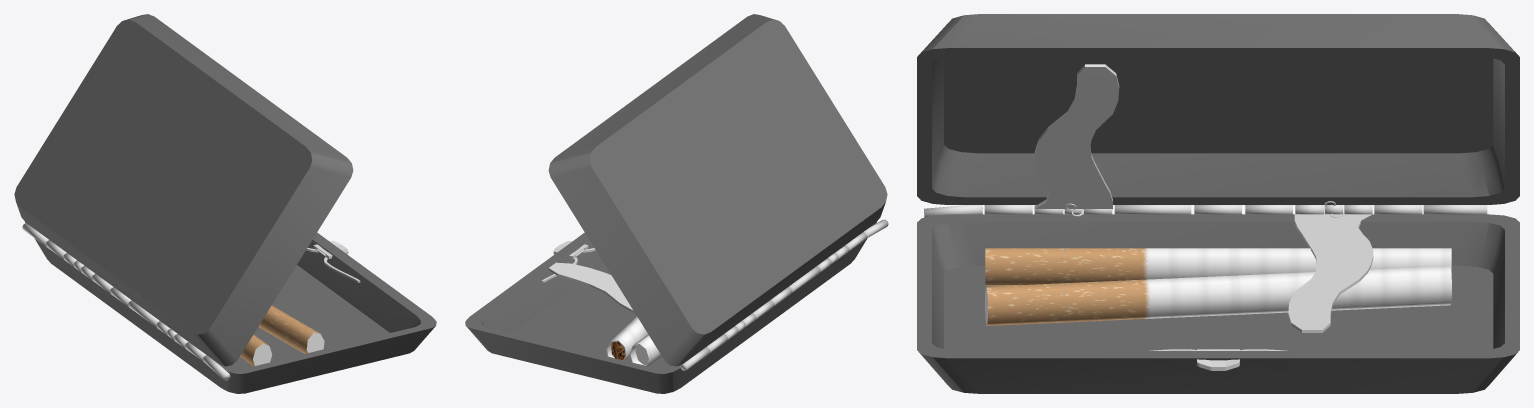
Rendered from konez.fbx.
3 renders of one model, left to right at view 1: azimuth 30°, elevation 25°; view 2: azimuth 150°, elevation 25°; view 3: azimuth 270°, elevation 25°, orthographic. The views are drawn at different scales.
Parts seen in each view (by area): view 1: Cube.011, Cube.007, Cylinder.002, Cylinder.026; view 2: Cube.011, Cube.007, Plane.013, Cylinder.002, Cylinder.026; view 3: Cube.011, Cube.007, Cylinder.002, Cylinder.026, Plane.019, Plane.013, Cylinder.060, Cylinder.056, Cylinder.061, Cube.010.
Boxes of the visible parts, x1=… form: Cube.011: x1=14, y1=14, x2=353, y2=366; Cube.007: x1=25, y1=222, x2=436, y2=393; Cylinder.002: x1=258, y1=305, x2=324, y2=353; Cylinder.026: x1=240, y1=334, x2=272, y2=366; Cube.011: x1=548, y1=14, x2=887, y2=366; Cube.007: x1=465, y1=222, x2=876, y2=393; Plane.013: x1=548, y1=262, x2=634, y2=312; Cylinder.002: x1=606, y1=316, x2=647, y2=360; Cylinder.026: x1=629, y1=334, x2=661, y2=366; Cube.011: x1=917, y1=14, x2=1519, y2=204; Cube.007: x1=917, y1=214, x2=1519, y2=393; Cylinder.002: x1=985, y1=266, x2=1451, y2=325; Cylinder.026: x1=985, y1=248, x2=1451, y2=285; Plane.019: x1=1034, y1=64, x2=1119, y2=209; Plane.013: x1=1288, y1=214, x2=1373, y2=332; Cylinder.060: x1=1114, y1=205, x2=1191, y2=214; Cylinder.056: x1=1423, y1=205, x2=1487, y2=214; Cylinder.061: x1=924, y1=205, x2=982, y2=217; Cube.010: x1=1197, y1=349, x2=1239, y2=370.
Size of the model in its own units: 512 by 452 by 800.
